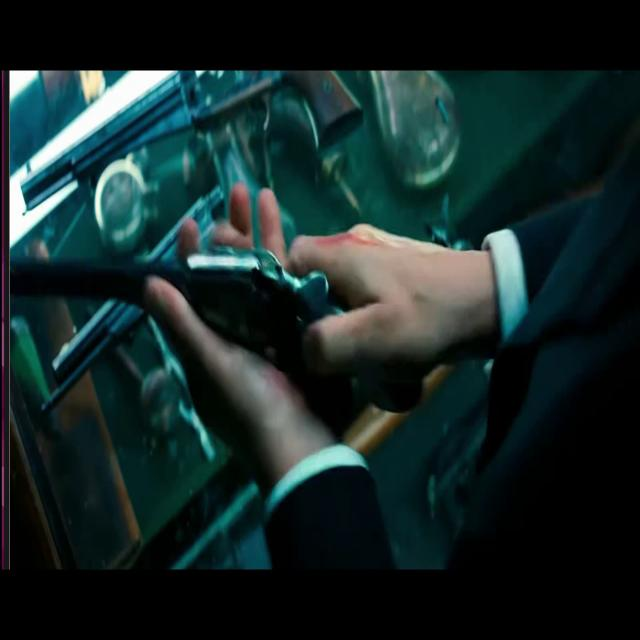weapons: (8, 209, 409, 429)
